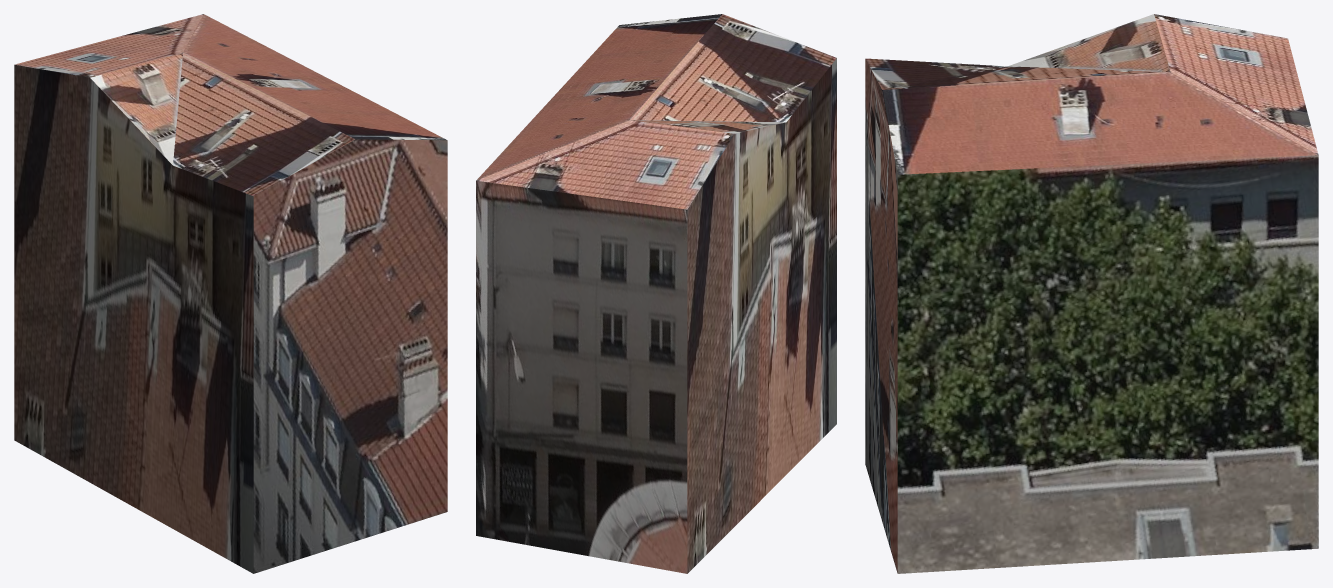
3 renders of one model, left to right at view 1: azimuth 30°, elevation 25°; view 2: azimuth 150°, elevation 25°; view 3: azimuth 270°, elevation 25°, orthographic. The views are drawn at different scales.
Visible parts, largest first — view 1: Z_UP; view 2: Z_UP; view 3: Z_UP.
Part boxes in pixels (x1,y1,x2,y2): Z_UP: (14,14,447,573); Z_UP: (476,14,836,573); Z_UP: (865,14,1318,573).
Bounding box in the file's own units: 11.9 × 18.29 × 17.27.
2 materials, 1 textured.
